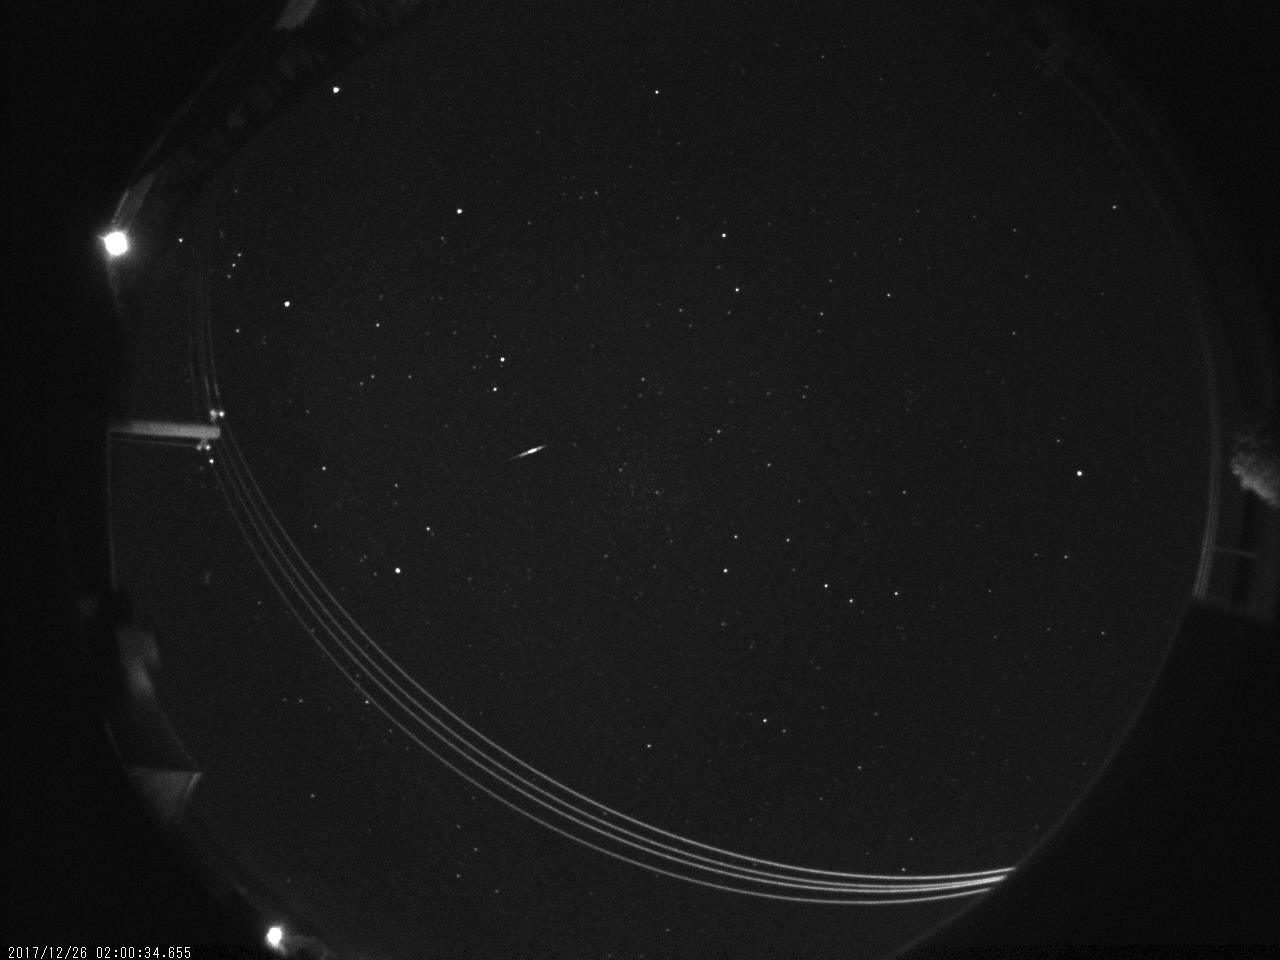meteor: (507, 441, 551, 465)
